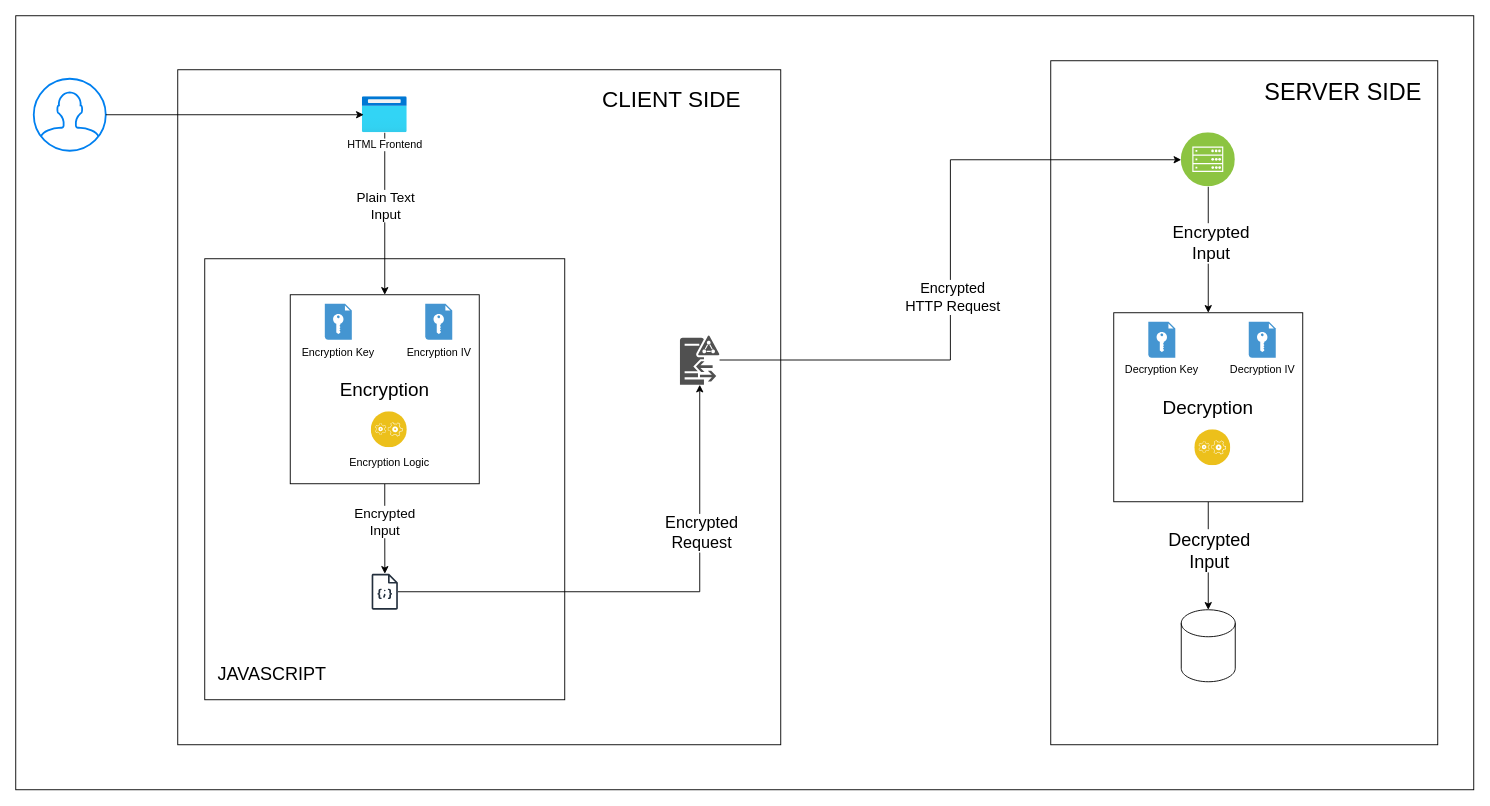
Image size: 1490x806. Some labels were removed from this diagram. Each missing label, with the centre of its shape:
Backend/ API Server: pixel 1208 159
DB: pixel 1207 645
Decryption Logic: pixel 1212 447
HTTP Proxy/ Intercept: pixel 699 359
User: pixel 69 114
XMLHttpRequest/ AJAX/Javascript request Object: pixel 384 591
